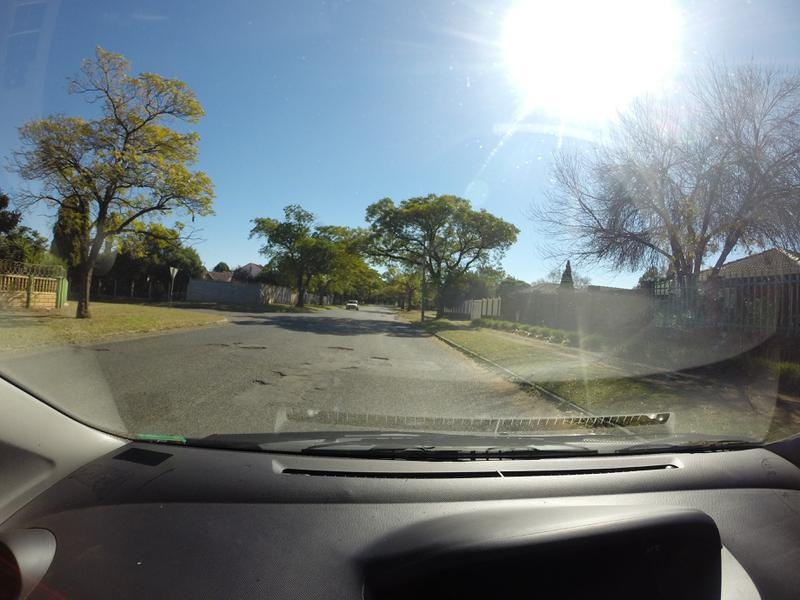pothole: (237, 341, 266, 355), (324, 342, 355, 355), (204, 337, 227, 354), (248, 377, 267, 390), (90, 341, 111, 352), (268, 367, 287, 378), (338, 362, 357, 373), (365, 356, 390, 364), (306, 383, 328, 391)
